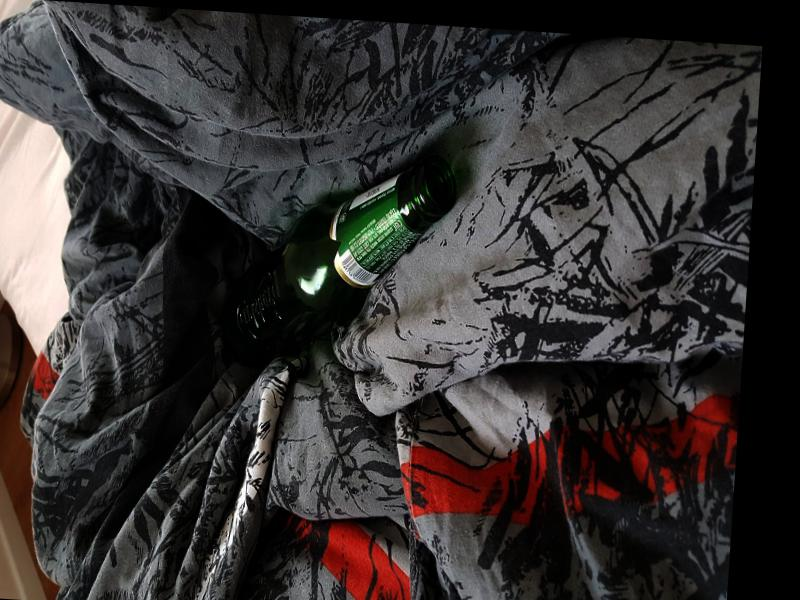Beer: (219, 146, 461, 379)
